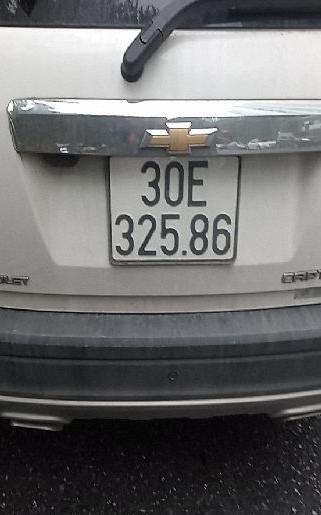Plate-iWeP: (104, 150, 244, 263)
